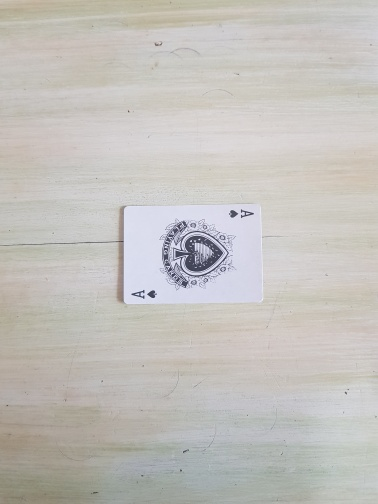ace: (122, 202, 264, 306)
